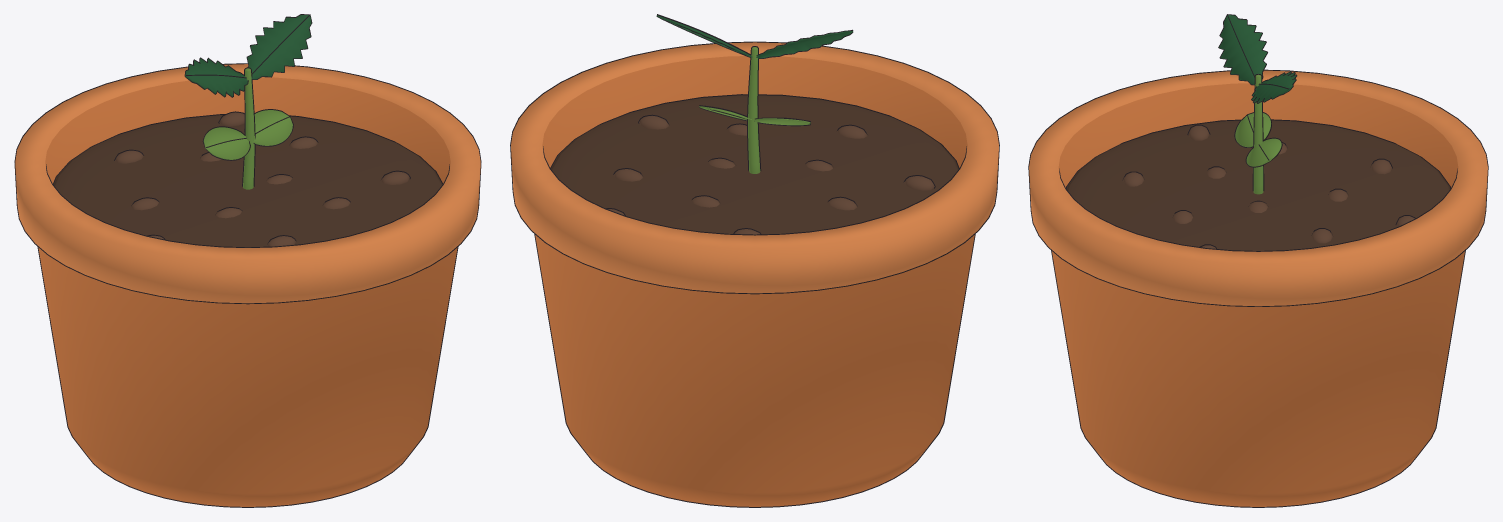
Rendered from cannabis_compact_seedling_toon.glb.
3 views of the same model, side by side, from view 1: azimuth 30°, elevation 25°; view 2: azimuth 150°, elevation 25°; view 3: azimuth 270°, elevation 25° (orthographic). The views are drawn at different scales.
Parts seen in each view (by area): view 1: cannabis_compact_seedling_Geometry; view 2: cannabis_compact_seedling_Geometry; view 3: cannabis_compact_seedling_Geometry.
Boxes of the visible parts, x1,y1,x2,y2 form: cannabis_compact_seedling_Geometry: (14, 14, 481, 507); cannabis_compact_seedling_Geometry: (510, 14, 999, 507); cannabis_compact_seedling_Geometry: (1028, 14, 1488, 507).
Bounding box in the file's own units: 0.3892 × 0.3621 × 0.3892.
